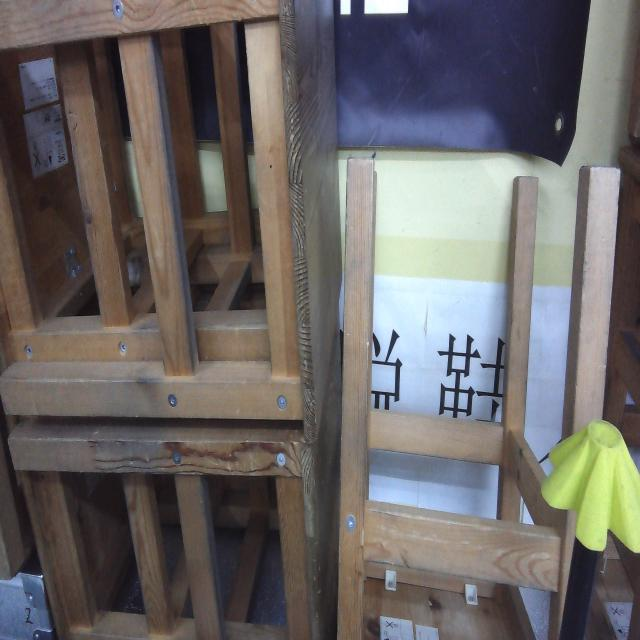Yellow-Stake-Head: (540, 419, 640, 554)
